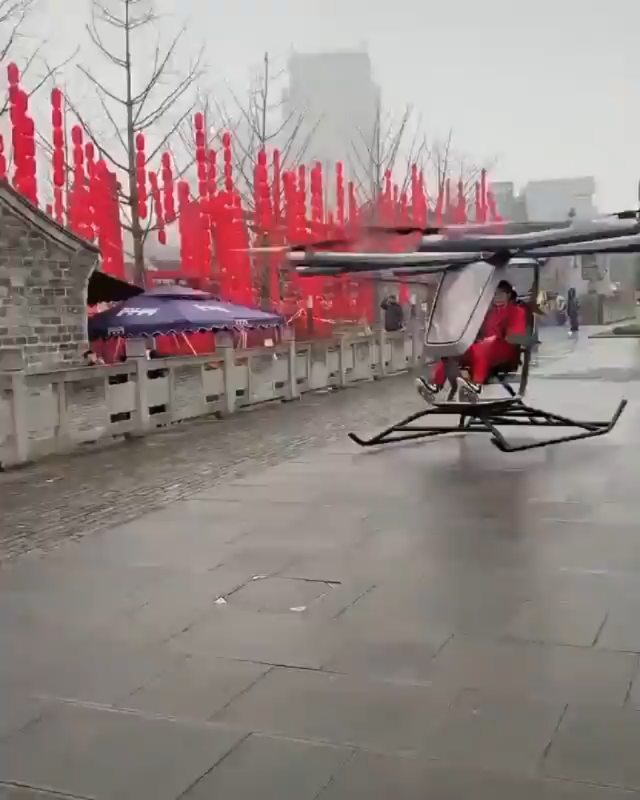building: (279, 36, 373, 221)
helicopter: (308, 205, 640, 478)
sky: (118, 1, 640, 161)
